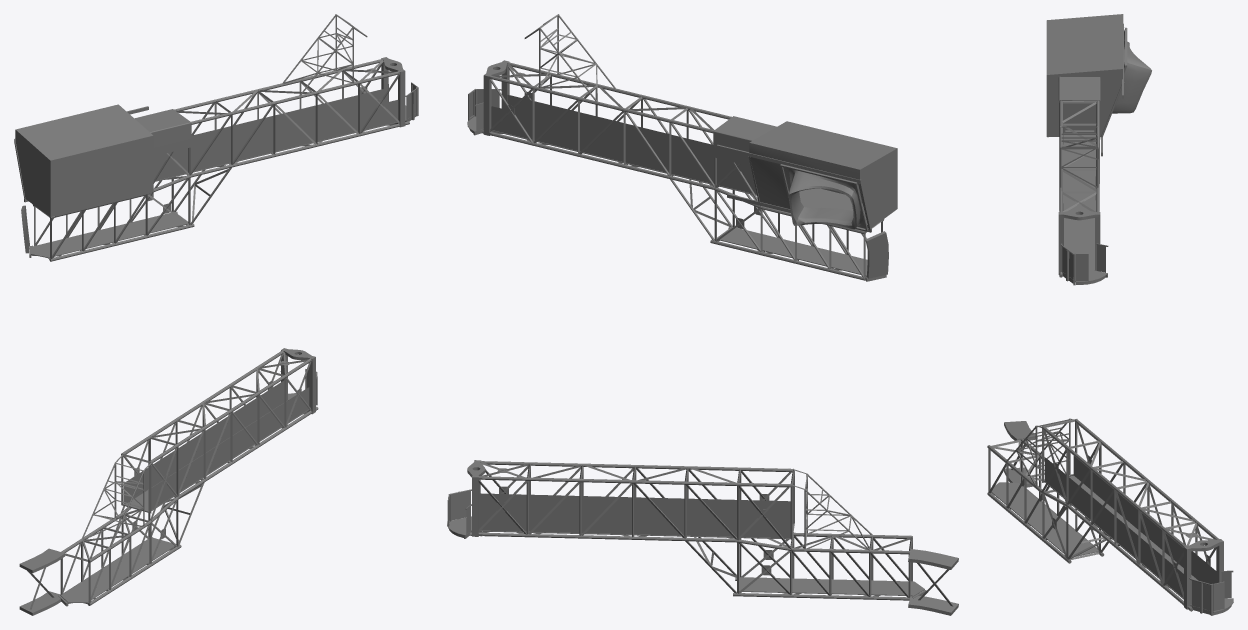
File: Lift.fbx
3 renders of one model, left to right at view 1: azimuth 30°, elevation 25°; view 2: azimuth 150°, elevation 25°; view 3: azimuth 270°, elevation 25°, orthographic. The views are drawn at different scales.
Parts seen in each view (by area): view 1: ML_LIFT, ML_LIFT001; view 2: ML_LIFT, ML_LIFT001; view 3: ML_LIFT001, ML_LIFT.
Part boxes in pixels (x1,y1,x2,y2): ML_LIFT: [14, 14, 418, 261]; ML_LIFT001: [19, 348, 318, 615]; ML_LIFT: [467, 14, 897, 281]; ML_LIFT001: [447, 460, 958, 615]; ML_LIFT001: [987, 418, 1233, 615]; ML_LIFT: [1046, 14, 1151, 285].
Size of the model in its own units: 4.36 by 4.8 by 2.02.
